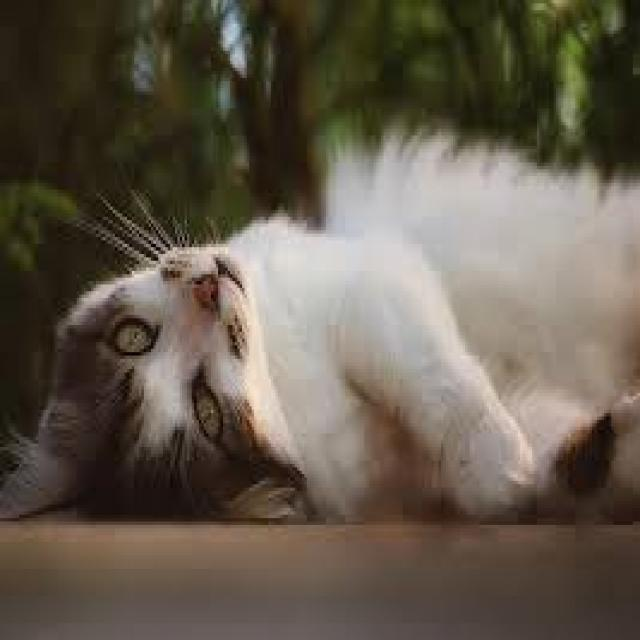cat: (0, 124, 640, 534)
